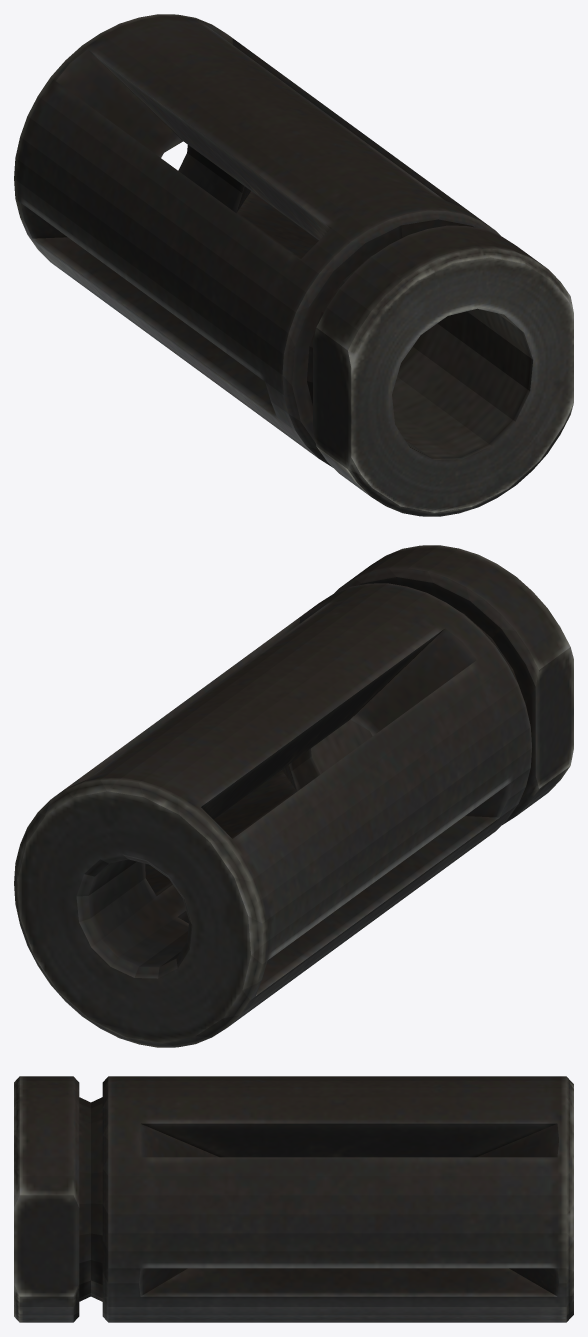
3 renders of one model, top to bottom at view 1: azimuth 30°, elevation 25°; view 2: azimuth 150°, elevation 25°; view 3: azimuth 270°, elevation 25°, orthographic. The views are drawn at different scales.
Parts seen in each view (by area): view 1: TW_5fbbc3324e8a554c40648348_PZ_Import; view 2: TW_5fbbc3324e8a554c40648348_PZ_Import; view 3: TW_5fbbc3324e8a554c40648348_PZ_Import.
Part boxes in pixels (x1=…): TW_5fbbc3324e8a554c40648348_PZ_Import: x1=14, y1=14, x2=573, y2=516; TW_5fbbc3324e8a554c40648348_PZ_Import: x1=14, y1=545, x2=573, y2=1047; TW_5fbbc3324e8a554c40648348_PZ_Import: x1=14, y1=1076, x2=573, y2=1322.
Size of the model in its own units: 0.0127 by 0.0289 by 0.0127.
1 material, 1 textured.
